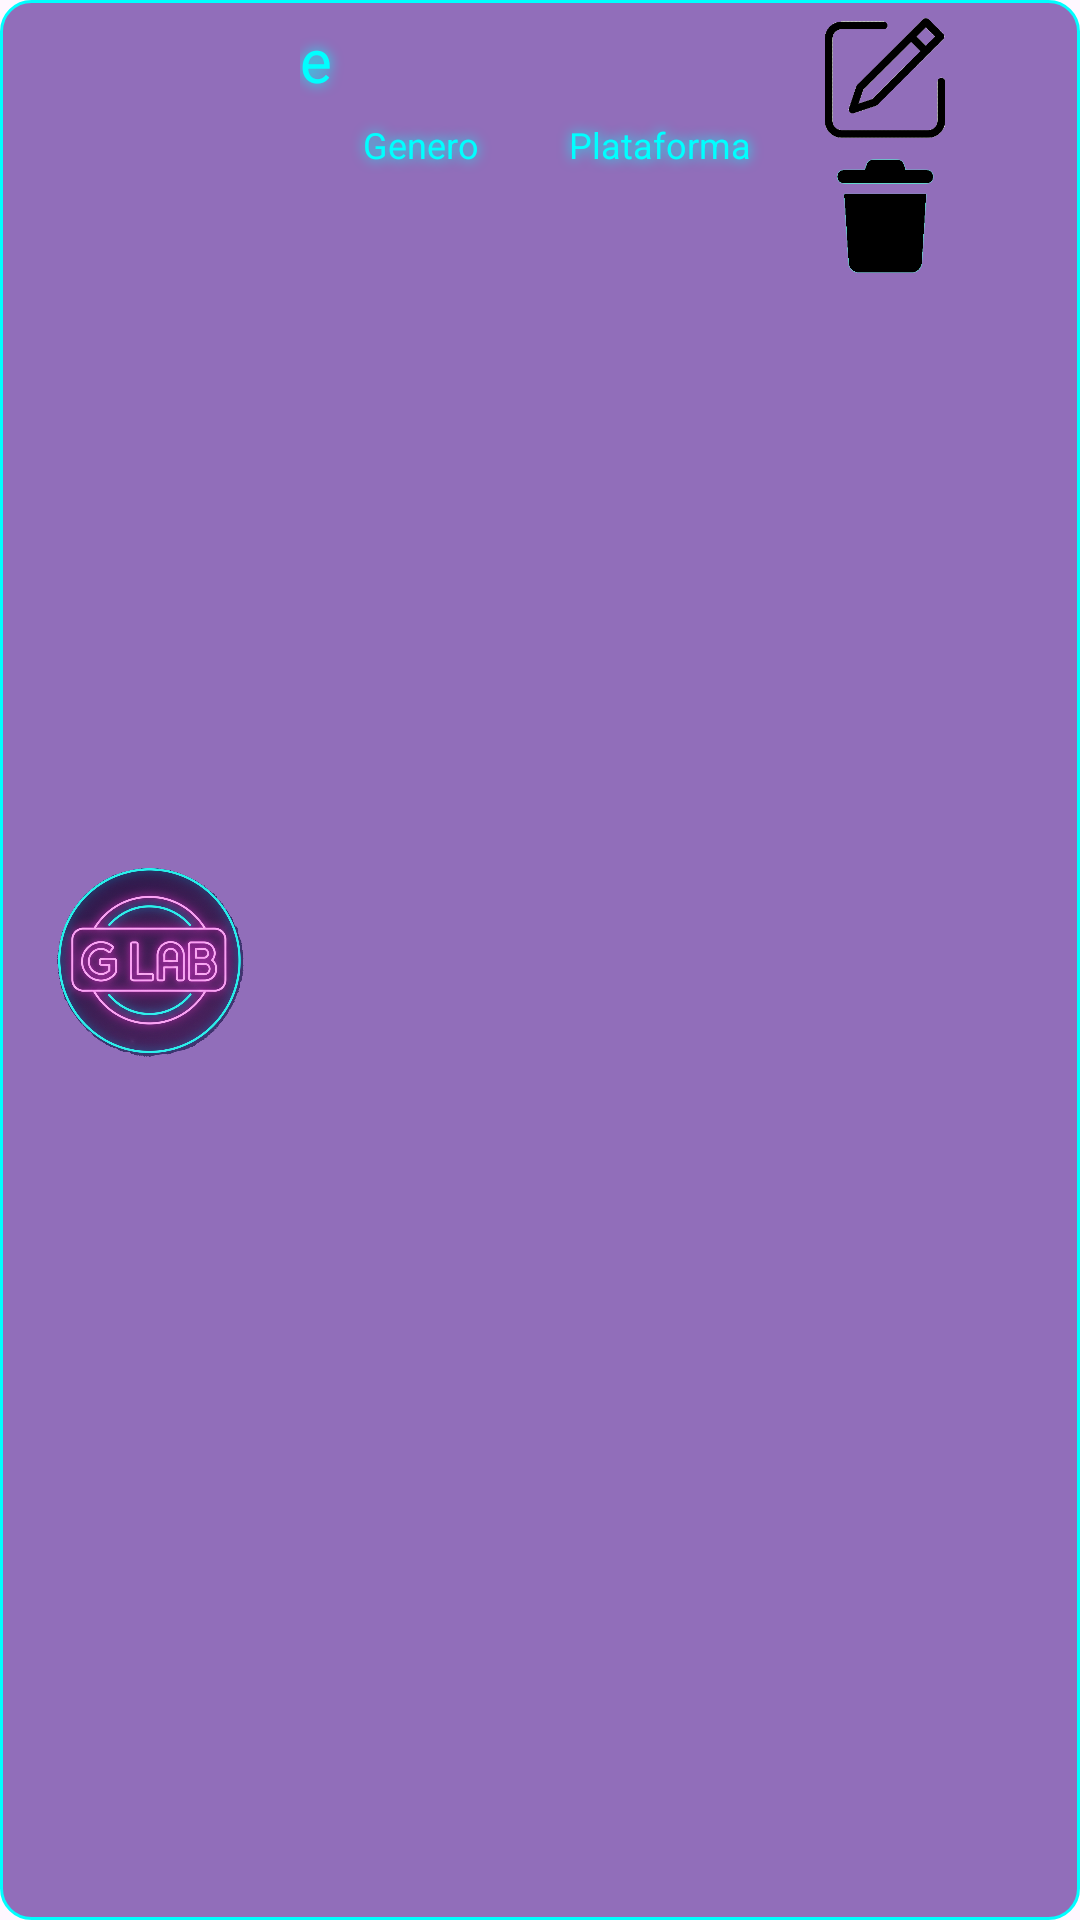

Point at icon controls on the screen. Image size 1080*1920, points as [x,y].
basurita: [885,216]
editar: [885,78]
